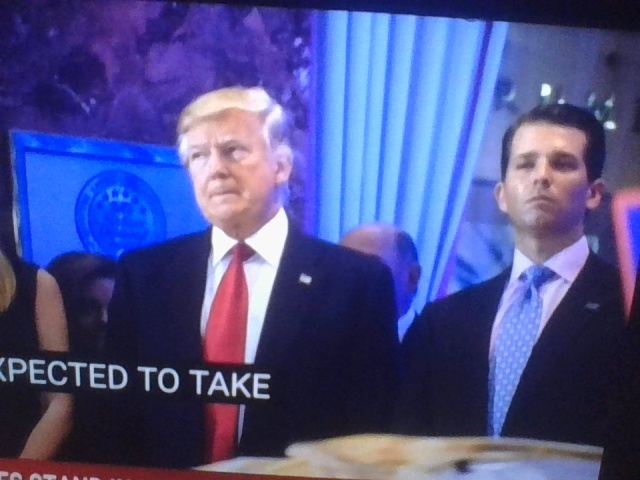fake: (491, 76, 608, 242)
